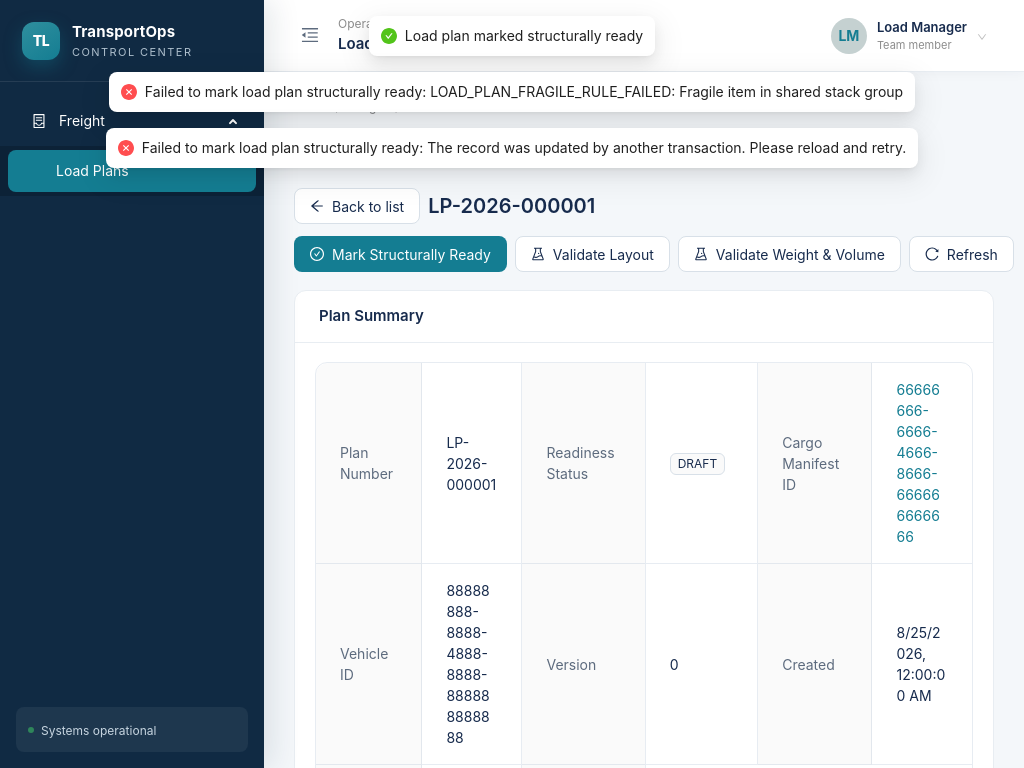
Scenario: Load planning pages › renders detailed weight, volume, and capacity metrics when validation passes
expect the heading "LP-2026-000001" is shown: met, box [428,192,595,220]
What coordinates should you click on to do the following:
click the button "Validate Weight & Volume"
I would click on:
 (789, 254)
Its box is [678,236,901,272].
(page scrolled)
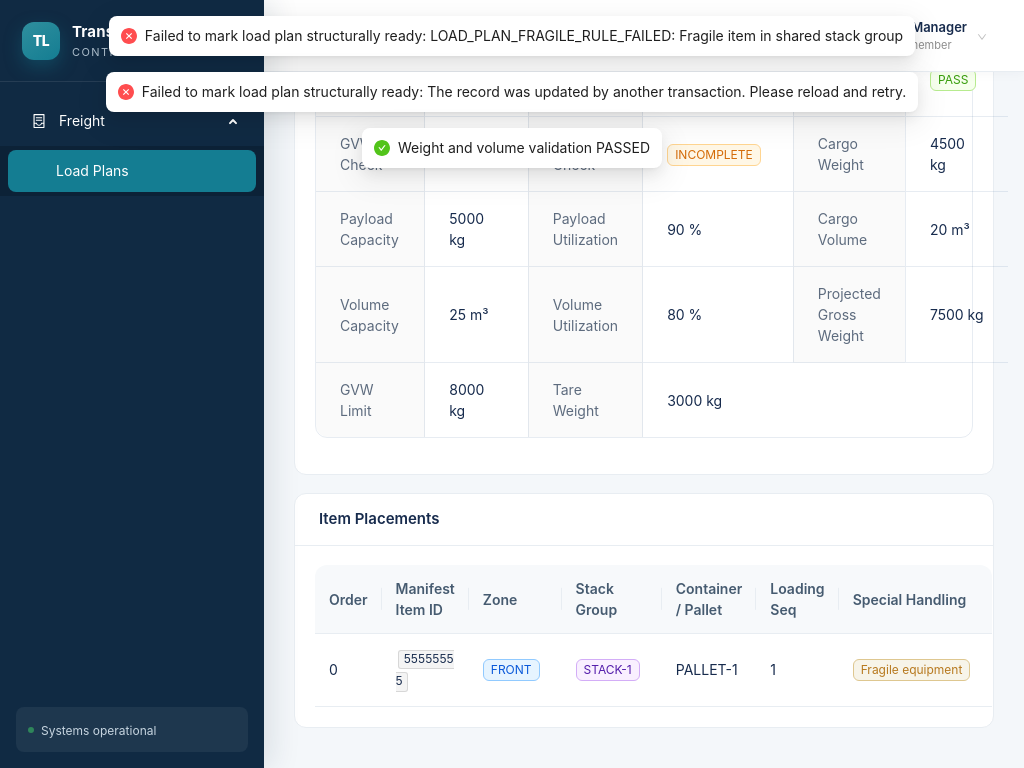
expect the text "4500 kg" is shown: met, box [930,135,965,173]
expect the text "5000 kg" is shown: met, box [449,210,484,248]
expect the text "90 %" is shown: met, box [667,220,702,238]
